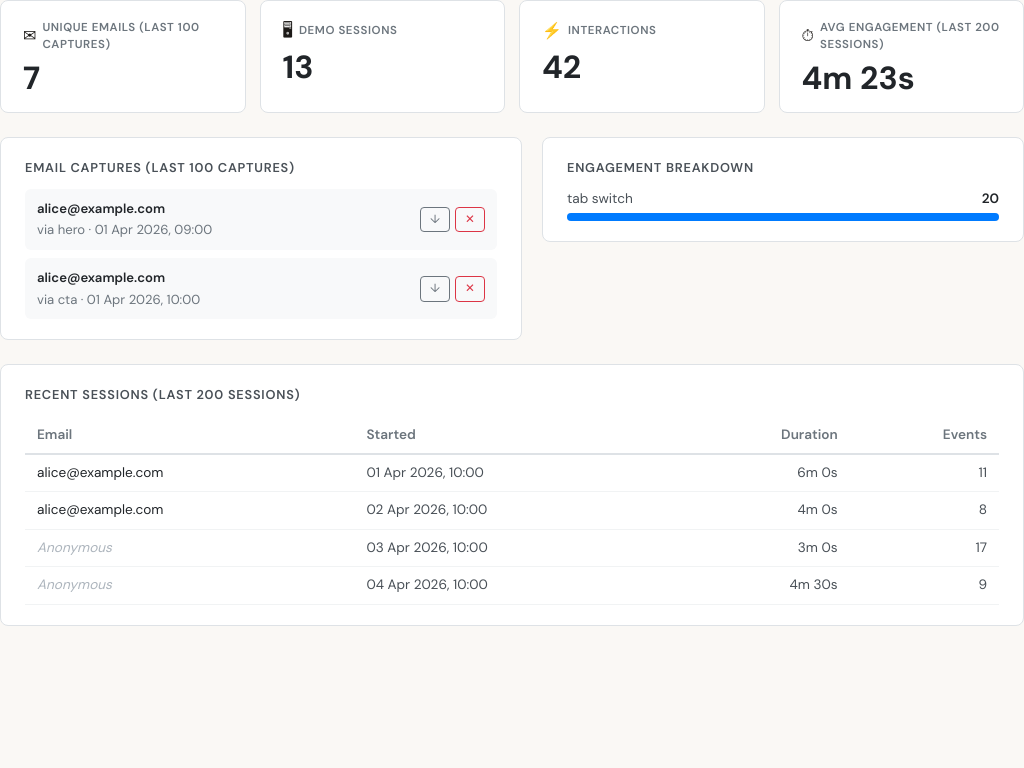
Test: DemoAnalytics › does not decrement stats after failed delete
What coordinates should you click on to do the following:
click the button named "delete"
I would click on:
 (470, 219)
Its box is top-left (455, 206), bottom-right (485, 232).
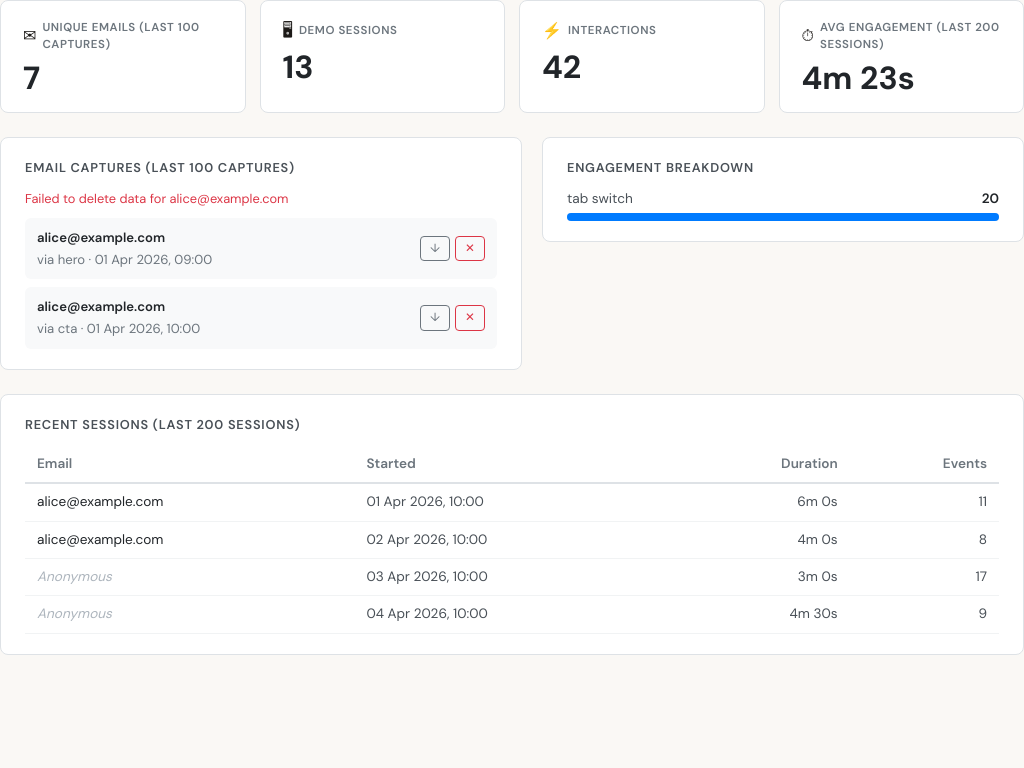
Expected: the text "7" is shown, top-left (23, 56), bottom-right (40, 98)
Expected: the text "Failed to delete data for alice@example.com" is shown, top-left (25, 190), bottom-right (288, 207)
